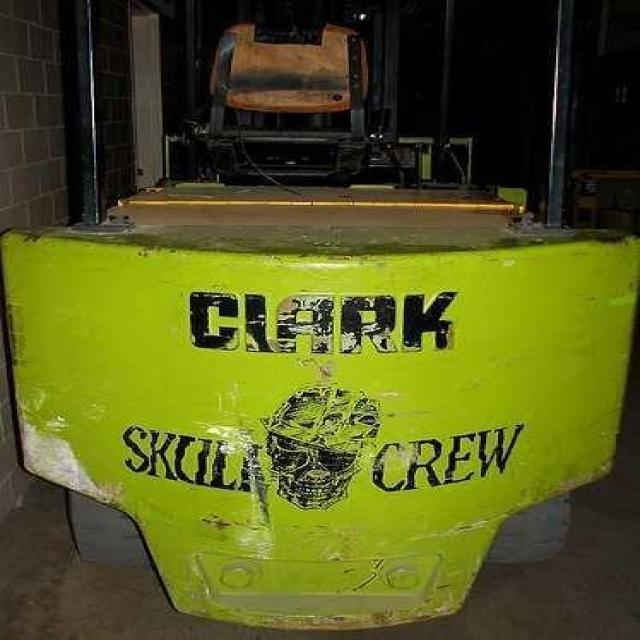forklift: (5, 0, 640, 637)
